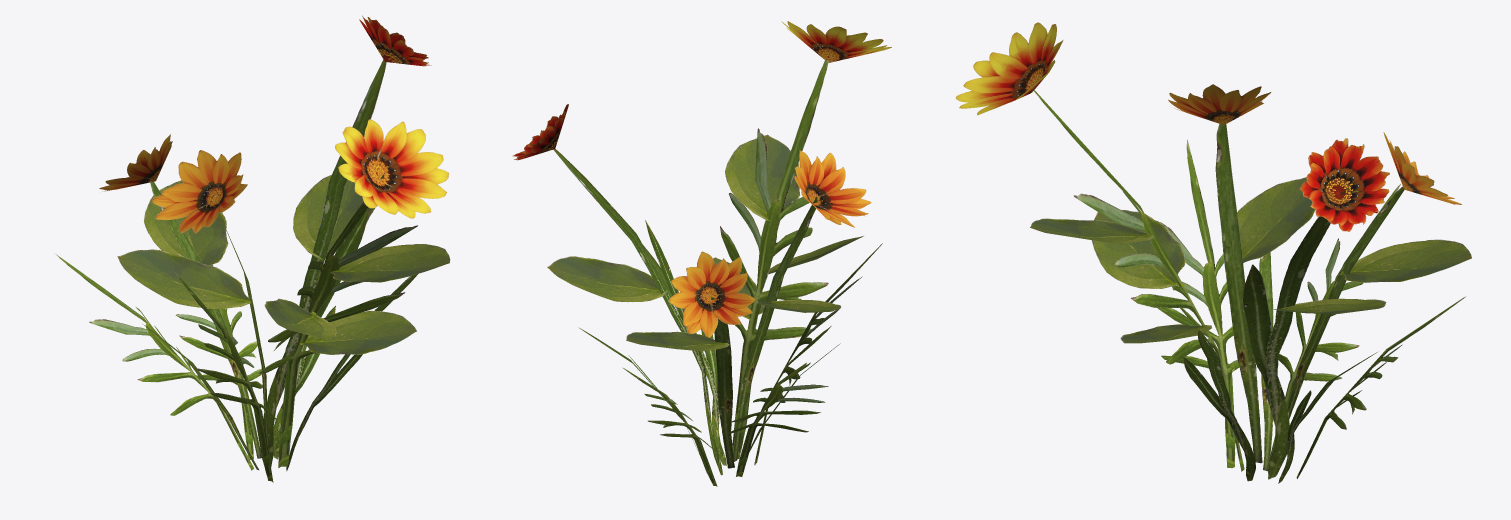
The model's file is PW_Flower_Cluster_05.fbx.
3 renders of one model, left to right at view 1: azimuth 30°, elevation 25°; view 2: azimuth 150°, elevation 25°; view 3: azimuth 270°, elevation 25°, orthographic. The views are drawn at different scales.
Visible parts, largest first — view 1: PW_Flower_Cluster_05_LOD0; view 2: PW_Flower_Cluster_05_LOD0; view 3: PW_Flower_Cluster_05_LOD0.
Boxes of the visible parts, <box> form: PW_Flower_Cluster_05_LOD0: <box>54,15,450,482</box>; PW_Flower_Cluster_05_LOD0: <box>512,21,891,486</box>; PW_Flower_Cluster_05_LOD0: <box>955,22,1471,483</box>.
Size of what is drawn, in the model's own units: 79.76 by 82.82 by 89.87.
1 material, 1 textured.
